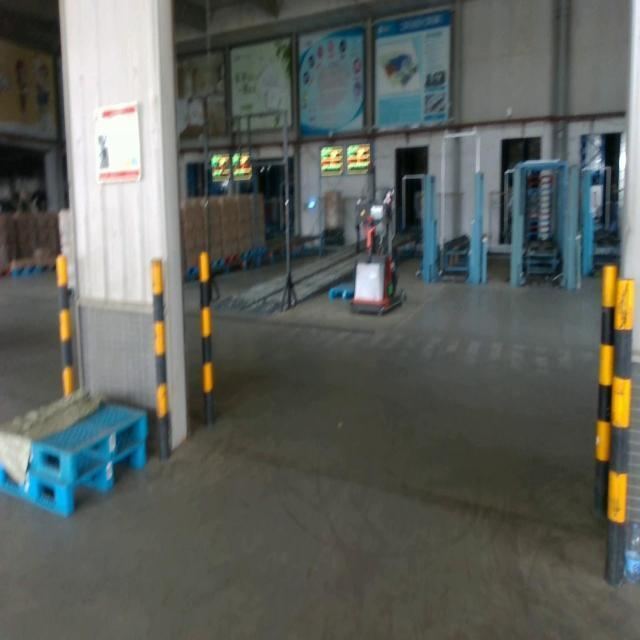forklift: (348, 158, 409, 320)
